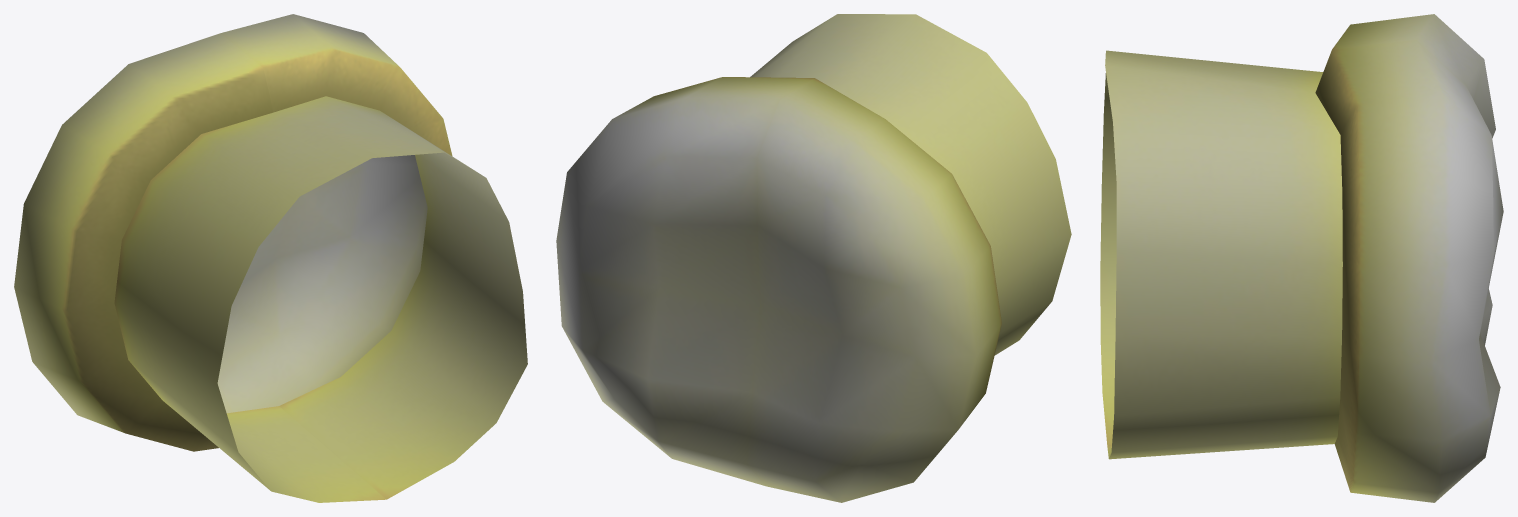
The model's file is Cook.fbx.
3 renders of one model, left to right at view 1: azimuth 30°, elevation 25°; view 2: azimuth 150°, elevation 25°; view 3: azimuth 270°, elevation 25°, orthographic. The views are drawn at different scales.
Parts seen in each view (by area): view 1: chef's hat; view 2: chef's hat; view 3: chef's hat.
Boxes of the visible parts, x1,y1,x2,y2 form: chef's hat: [14, 14, 527, 502]; chef's hat: [556, 14, 1071, 502]; chef's hat: [1100, 14, 1503, 502].
Size of the model in its own units: 72.51 by 65.36 by 55.81.
